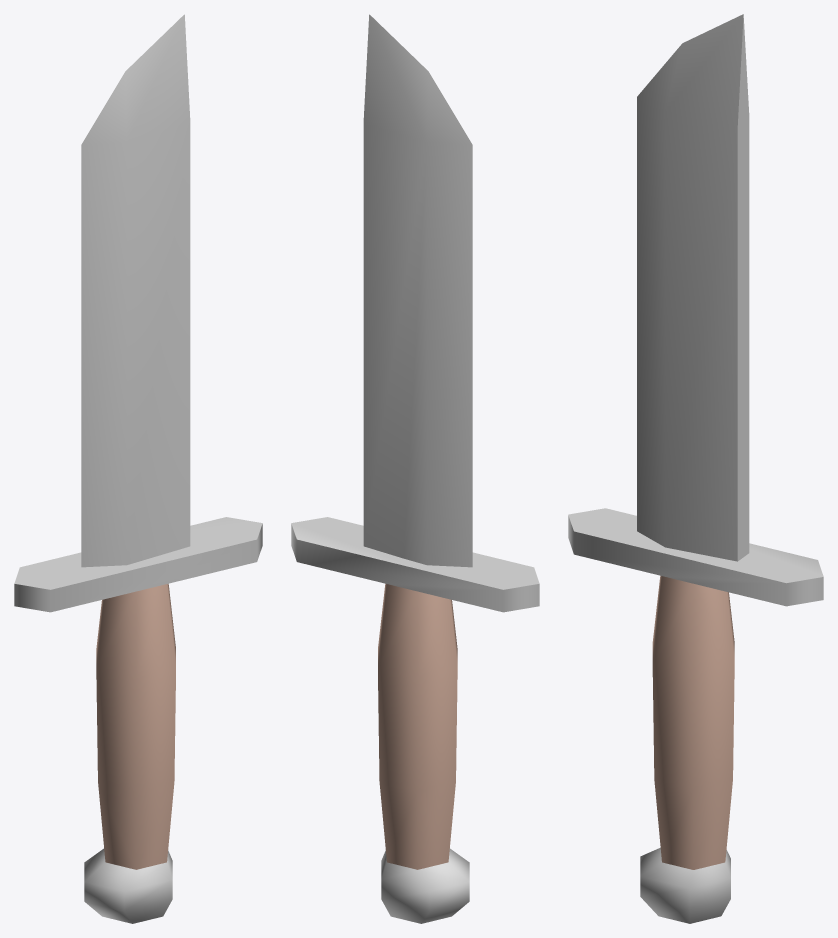
The model's file is Knife.fbx.
3 renders of one model, left to right at view 1: azimuth 30°, elevation 25°; view 2: azimuth 150°, elevation 25°; view 3: azimuth 330°, elevation 25°, orthographic. The views are drawn at different scales.
Parts seen in each view (by area): view 1: Knife; view 2: Knife; view 3: Knife.
Boxes of the visible parts, x1,y1,x2,y2 form: Knife: (14,14,262,923); Knife: (291,14,539,923); Knife: (568,14,823,923).
Size of the model in its own units: 0.0205 by 0.0738 by 0.2506.
